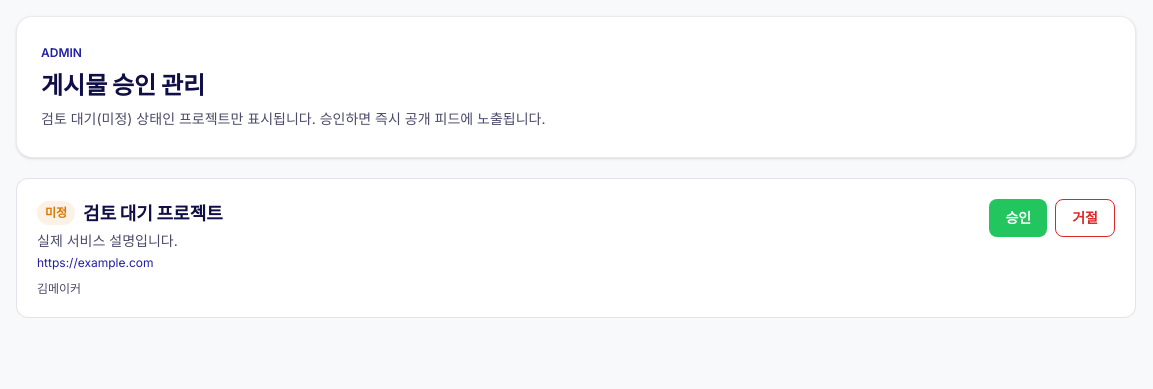
Test case: AdminApprovalView › rejects a project with the entered reason
This screenshot has width=1153, height=389.
Click the button "거절" at (1085, 218), box [1055,199,1115,237]
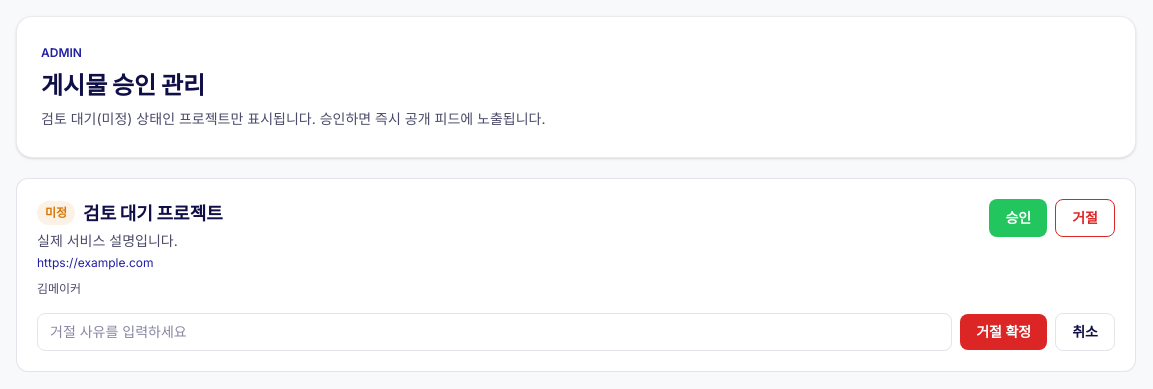
Type "스크린샷이 실제 화면과 다릅니다." into the field with placeholder "거절 사유를 입력하세요" at (495, 332), box [37,313,952,351]
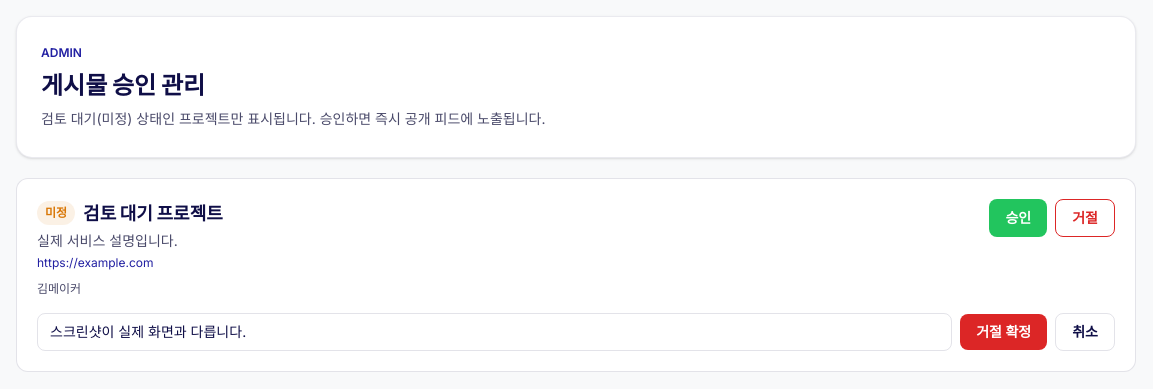
Click the button "거절 확정" at (1004, 332), box [960,314,1047,350]
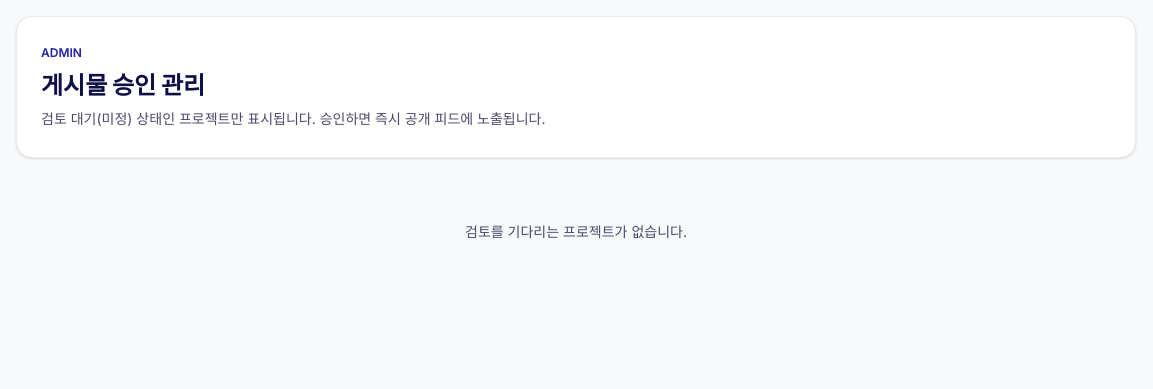
Expected: the text "검토 대기 프로젝트" is gone
